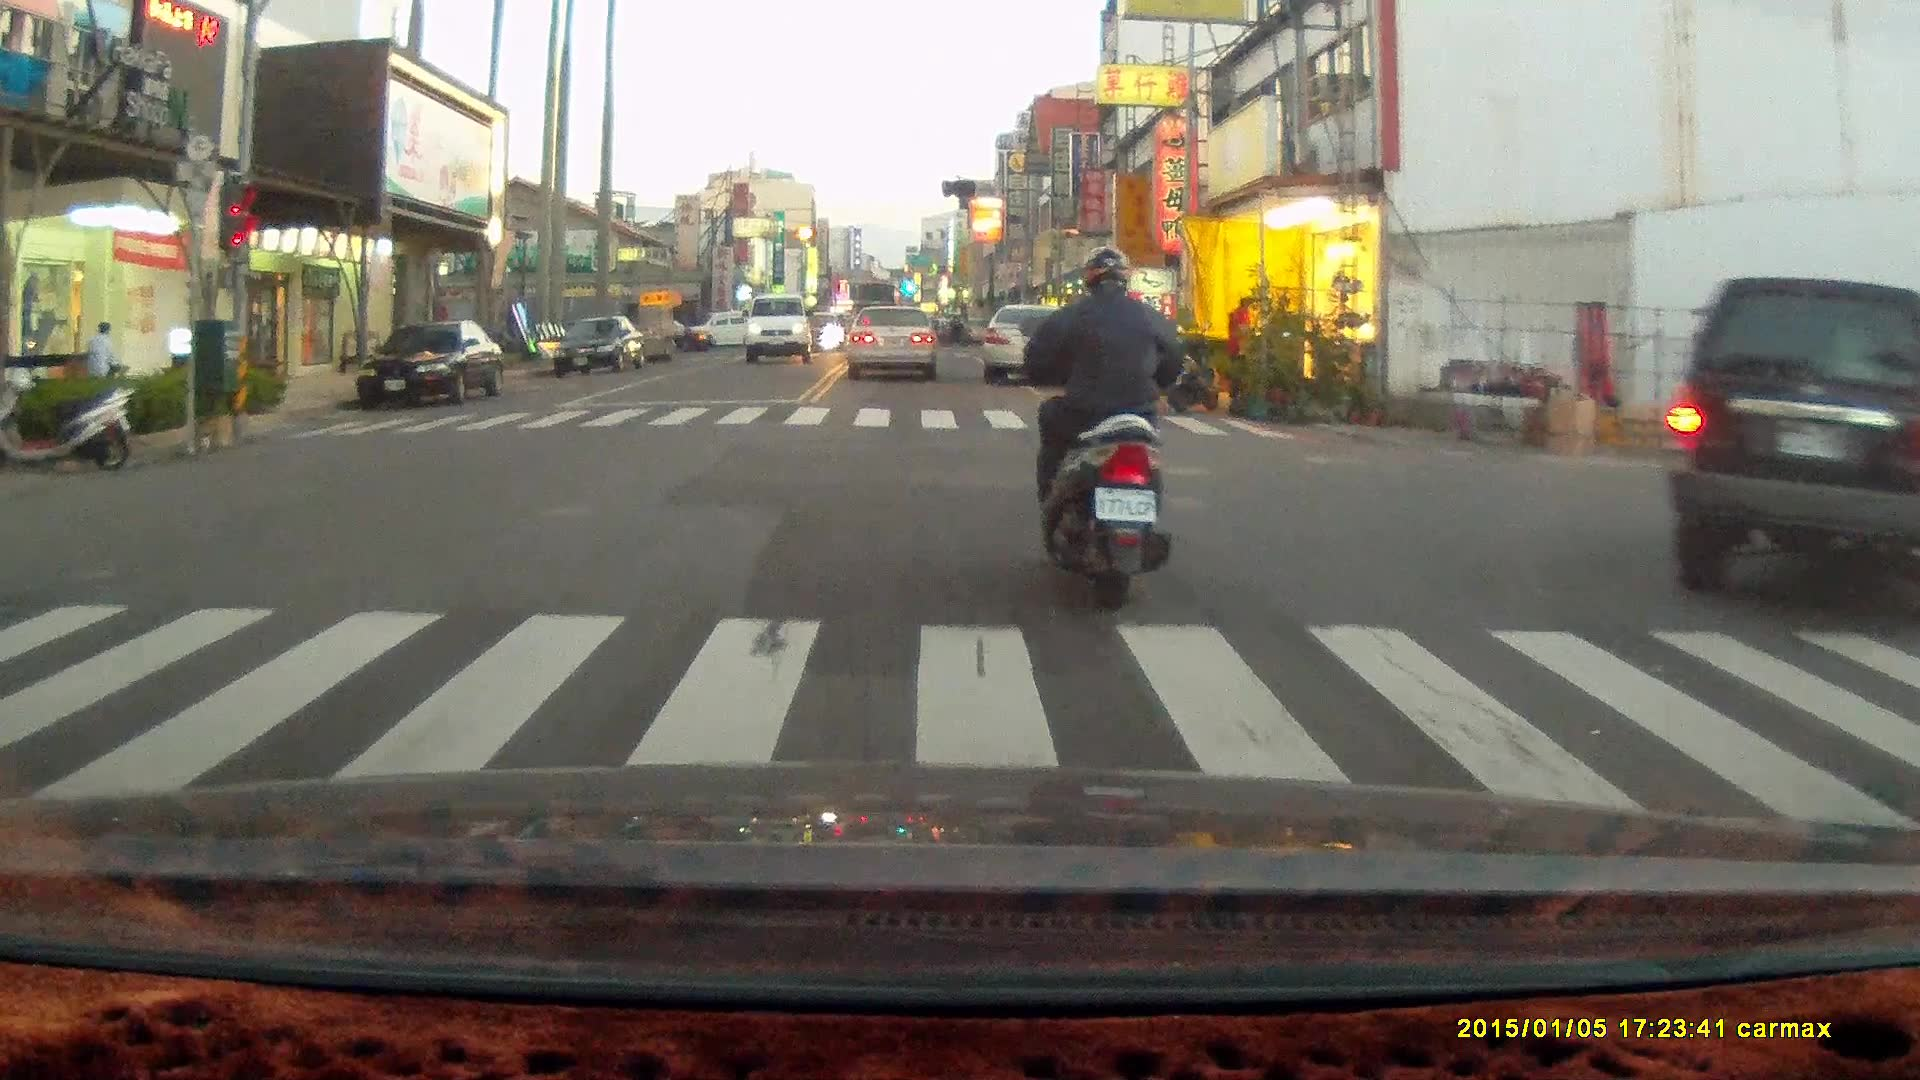pedestrian: (1223, 294, 1259, 408), (83, 319, 119, 391)
rider: (1018, 242, 1185, 609)
vehicle: (1654, 280, 1920, 615), (353, 317, 503, 414), (983, 301, 1092, 388), (847, 305, 937, 382), (554, 315, 647, 379), (745, 296, 814, 364)
